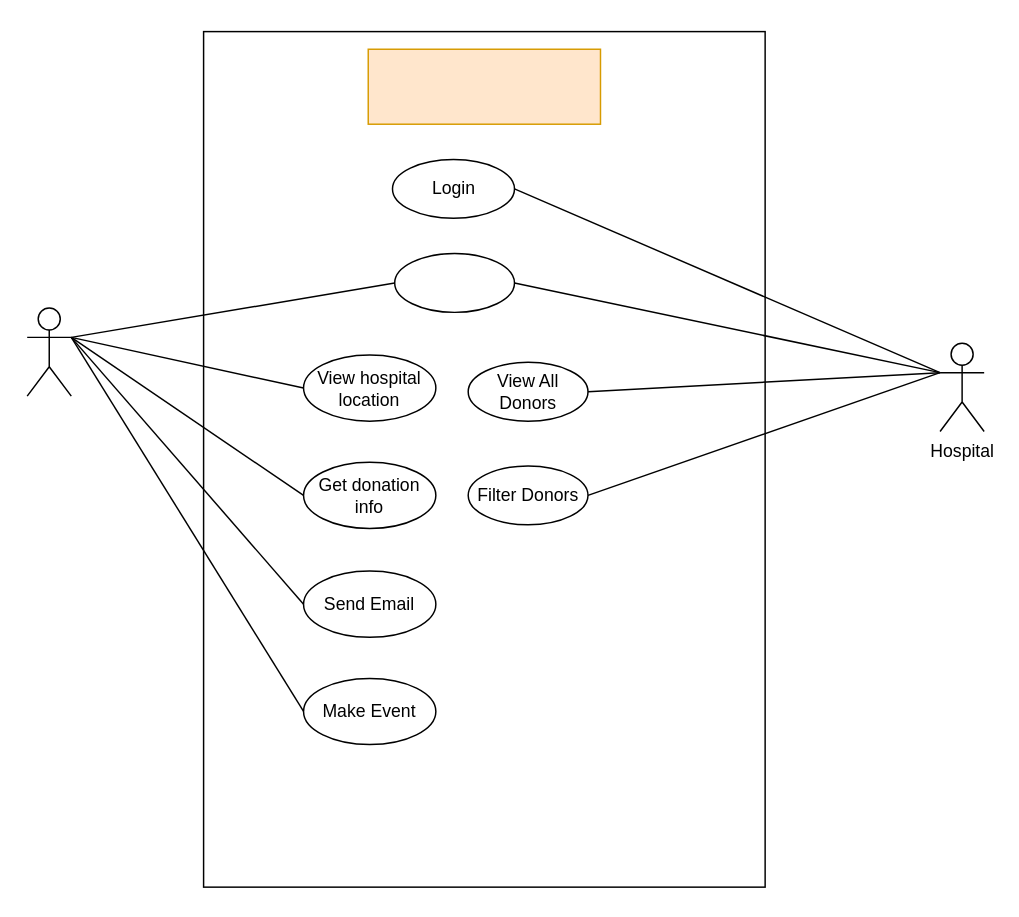
The diagram is 1019 pixels wide and 917 high, and some of its shapes have lost their labels. The shapes that lost their labels are listed below. From the top down, each one's centre as x and y in pixels, then its label:
At point 483,86: "Blood Donation Application".
At point 453,282: "Register".
At point 48,351: "Donor".
